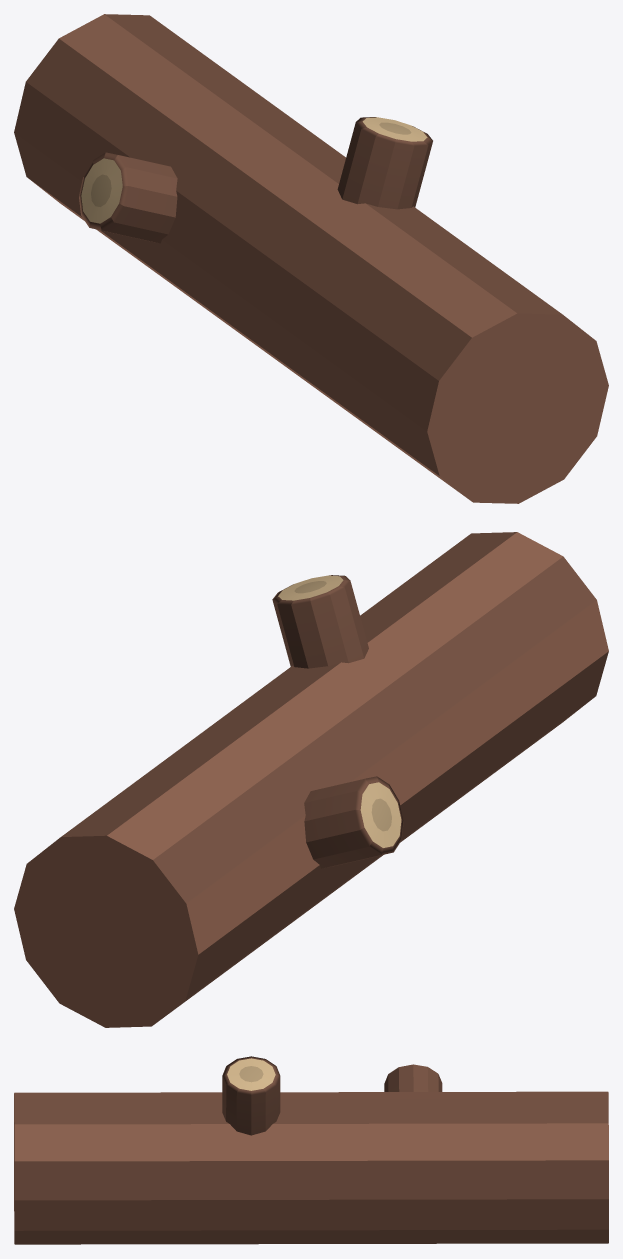
Rendered from Log.fbx.
3 views of the same model, one above another, from view 1: azimuth 30°, elevation 25°; view 2: azimuth 150°, elevation 25°; view 3: azimuth 270°, elevation 25° (orthographic). The views are drawn at different scales.
Visible parts, largest first — view 1: pCylinder4; view 2: pCylinder4; view 3: pCylinder4.
Boxes of the visible parts, x1,y1,x2,y2 form: pCylinder4: [14, 14, 608, 503]; pCylinder4: [14, 532, 608, 1027]; pCylinder4: [14, 1056, 608, 1244].
Bounding box in the file's own units: 24.57 × 24.36 × 71.44.
